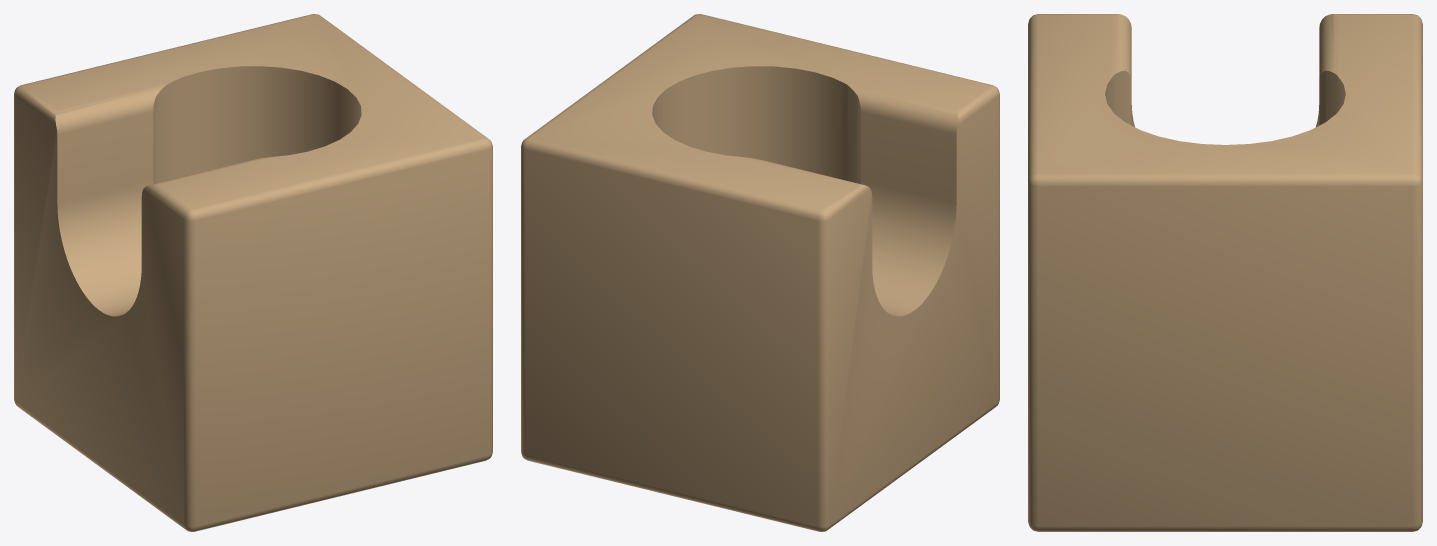
File: blk_drop_l2.glb
3 views of the same model, side by side, from view 1: azimuth 30°, elevation 25°; view 2: azimuth 150°, elevation 25°; view 3: azimuth 270°, elevation 25° (orthographic). The views are drawn at different scales.
Visible parts, largest first — view 1: blk_drop_l2_lod0; view 2: blk_drop_l2_lod0; view 3: blk_drop_l2_lod0.
Part boxes in pixels (box(x1,y1,x2,y2)): blk_drop_l2_lod0: box(14, 14, 492, 531); blk_drop_l2_lod0: box(521, 14, 999, 531); blk_drop_l2_lod0: box(1028, 14, 1422, 531).
Size of what is drawn, in the model's own units: 0.059 by 0.059 by 0.059.
